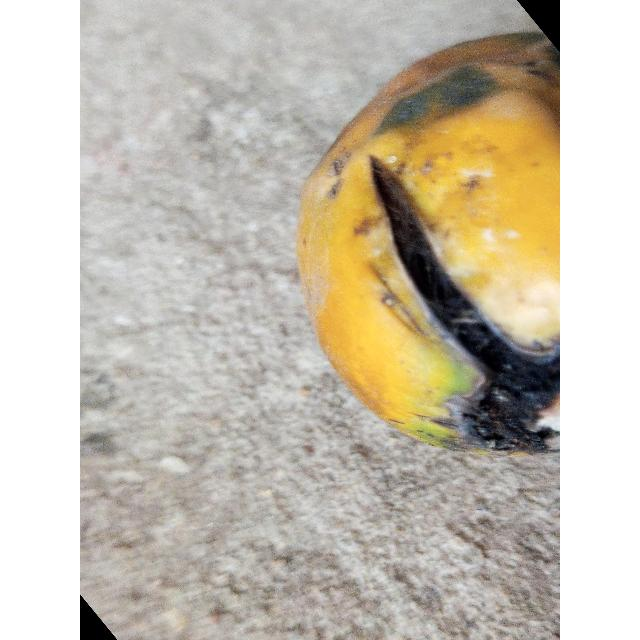damaged: (296, 35, 560, 454)
